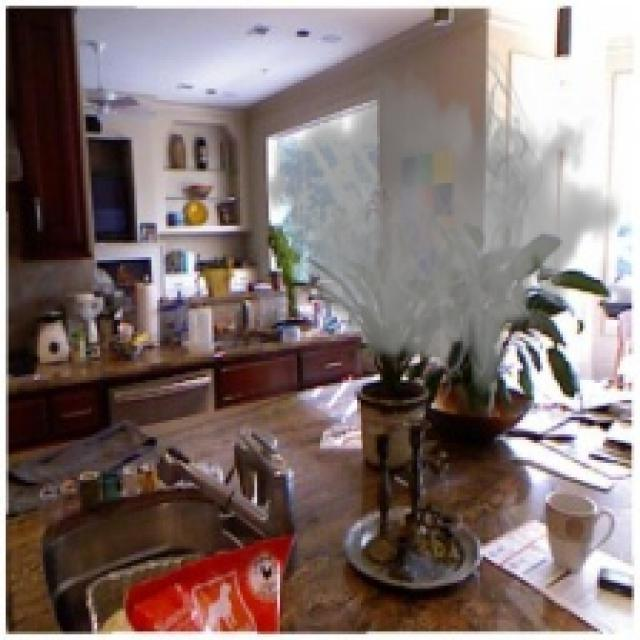Smoke: (263, 40, 623, 409)
